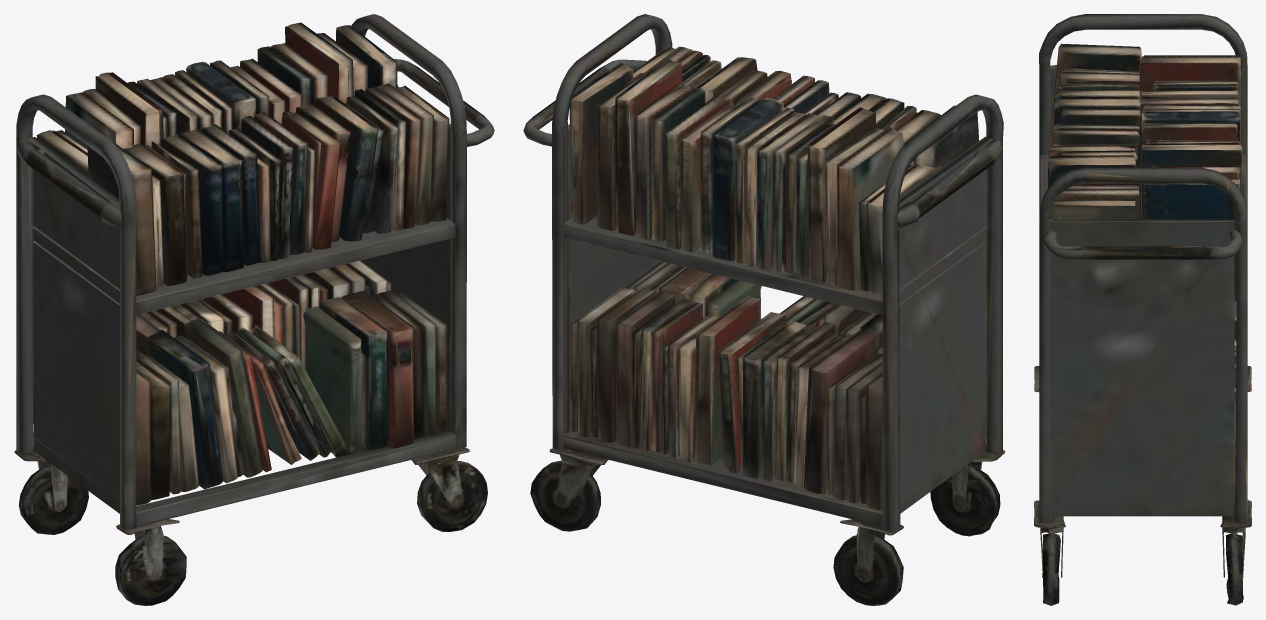
Rendered from prop_book_cart.glb.
The picture shows the model from 3 angles, left to right: view 1: azimuth 30°, elevation 25°; view 2: azimuth 150°, elevation 25°; view 3: azimuth 270°, elevation 25°; orthographic projection. The views are drawn at different scales.
Size of the model in its own units: 0.8564 by 0.9502 by 0.4331.
1 material, 1 textured.
